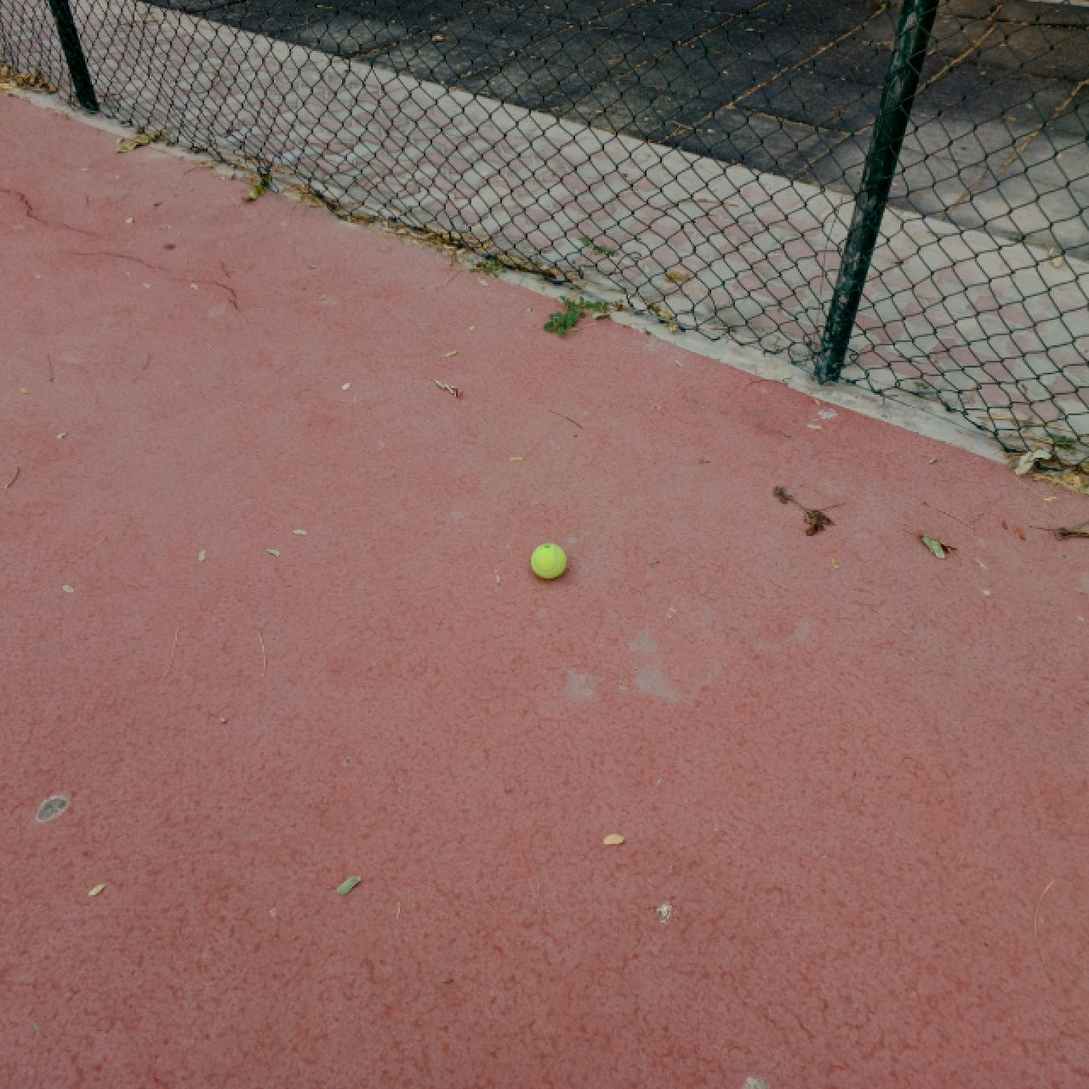tennis-ball: (529, 540, 568, 582)
